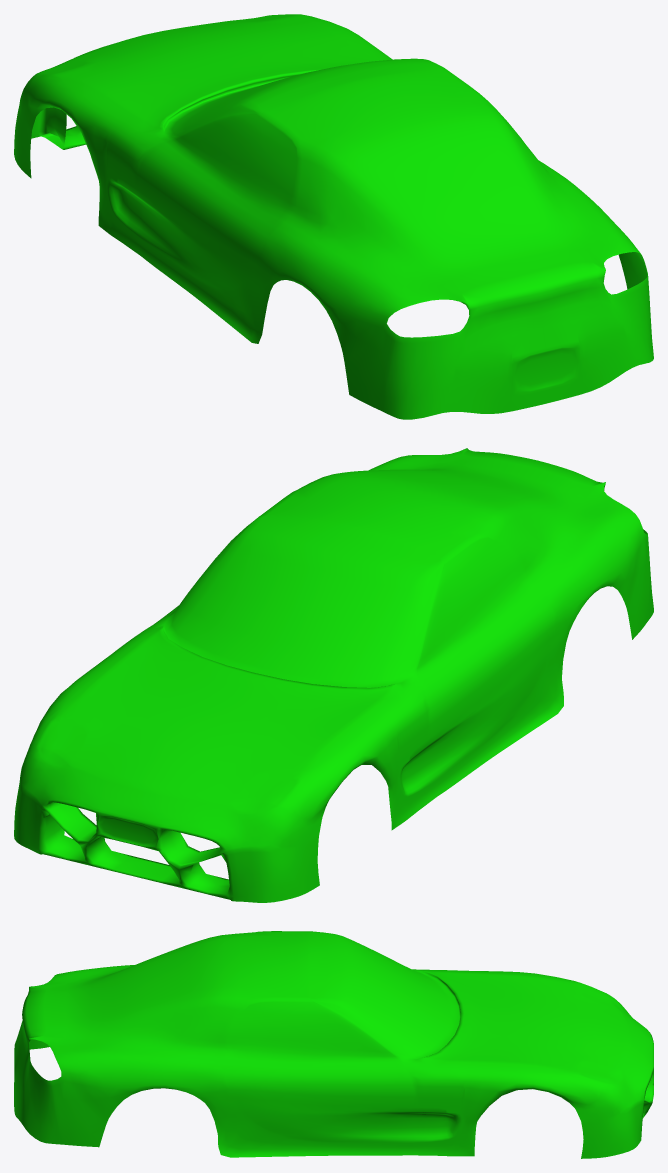
File: Mazda.FBX
3 renders of one model, top to bottom at view 1: azimuth 30°, elevation 25°; view 2: azimuth 150°, elevation 25°; view 3: azimuth 270°, elevation 25°, orthographic. The views are drawn at different scales.
Visible parts, largest first — view 1: Body; view 2: Body; view 3: Body.
Part boxes in pixels (<box>): Body: <box>14,14,653,419</box>; Body: <box>14,448,653,902</box>; Body: <box>14,931,653,1158</box>.
Size of the model in its own units: 675 by 408 by 1598.
